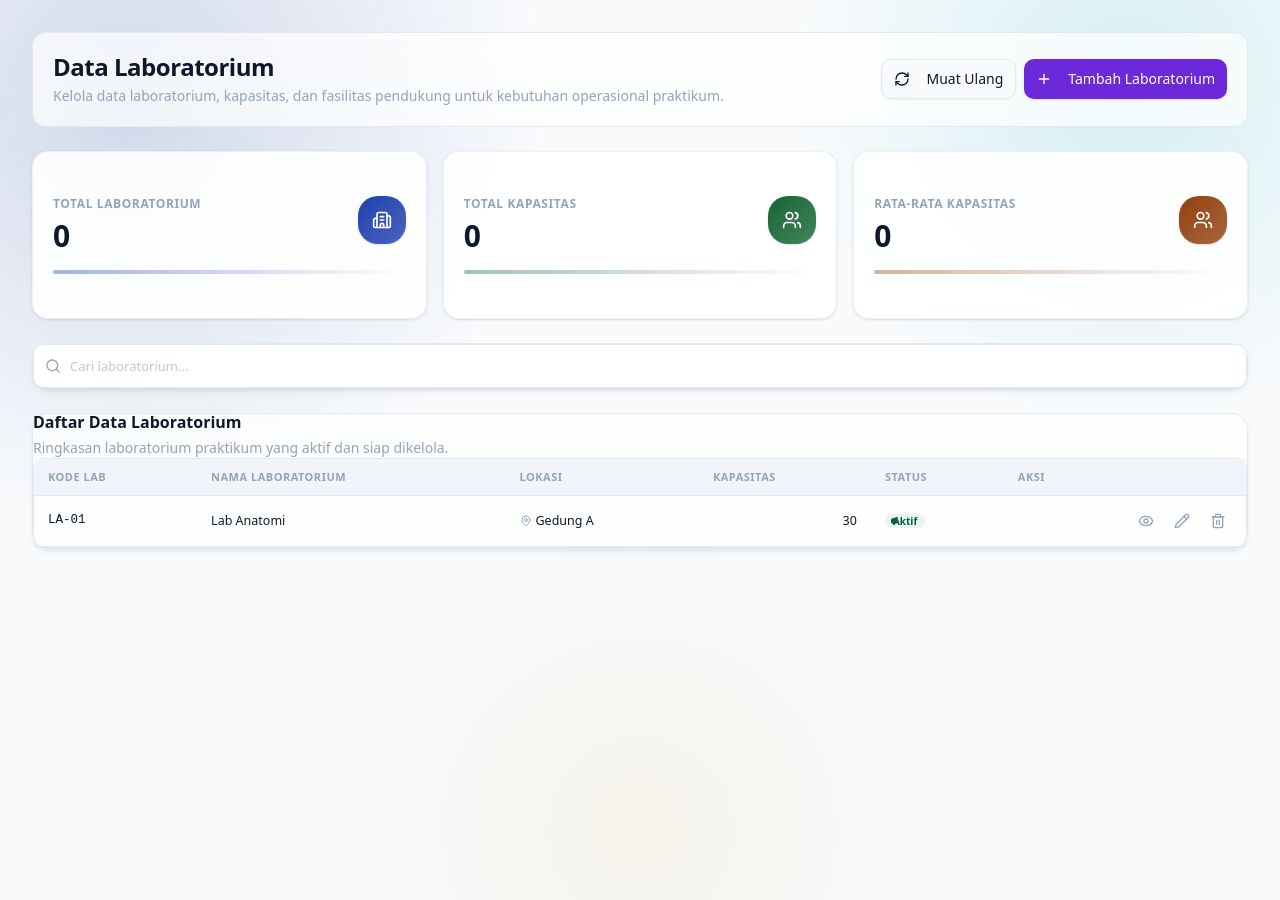
Test: Laboran LaboratoriumPage › membuka dialog detail dan memuat detail laboratorium
The image size is (1280, 900).
Expected: the text "Lab Anatomi" is shown, [197, 495, 506, 546]
Click the button named "Detail" at (1146, 520), box [1132, 506, 1160, 534]
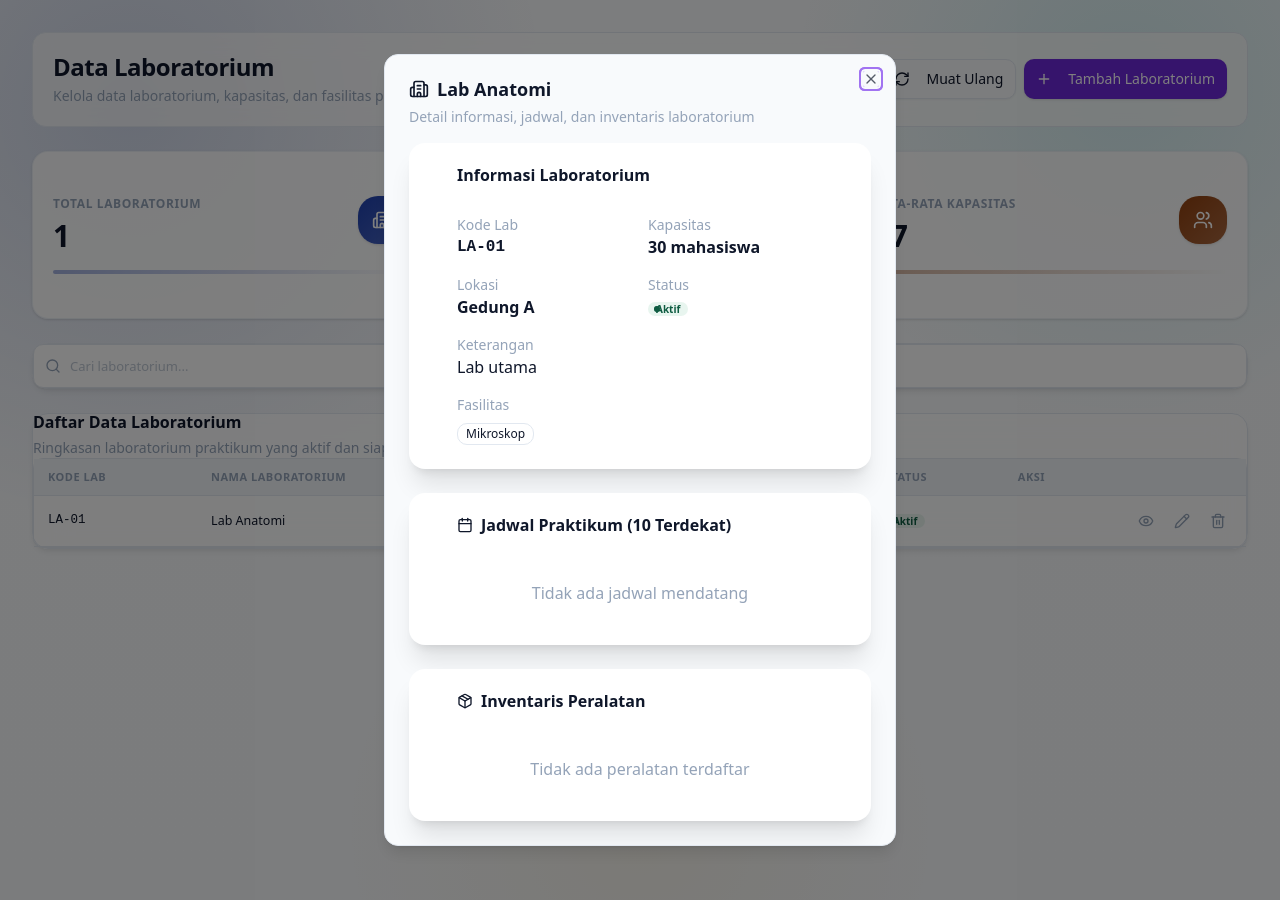
Now the text "Detail informasi, jadwal, dan inventaris laboratorium" is shown, box [409, 107, 755, 126]
